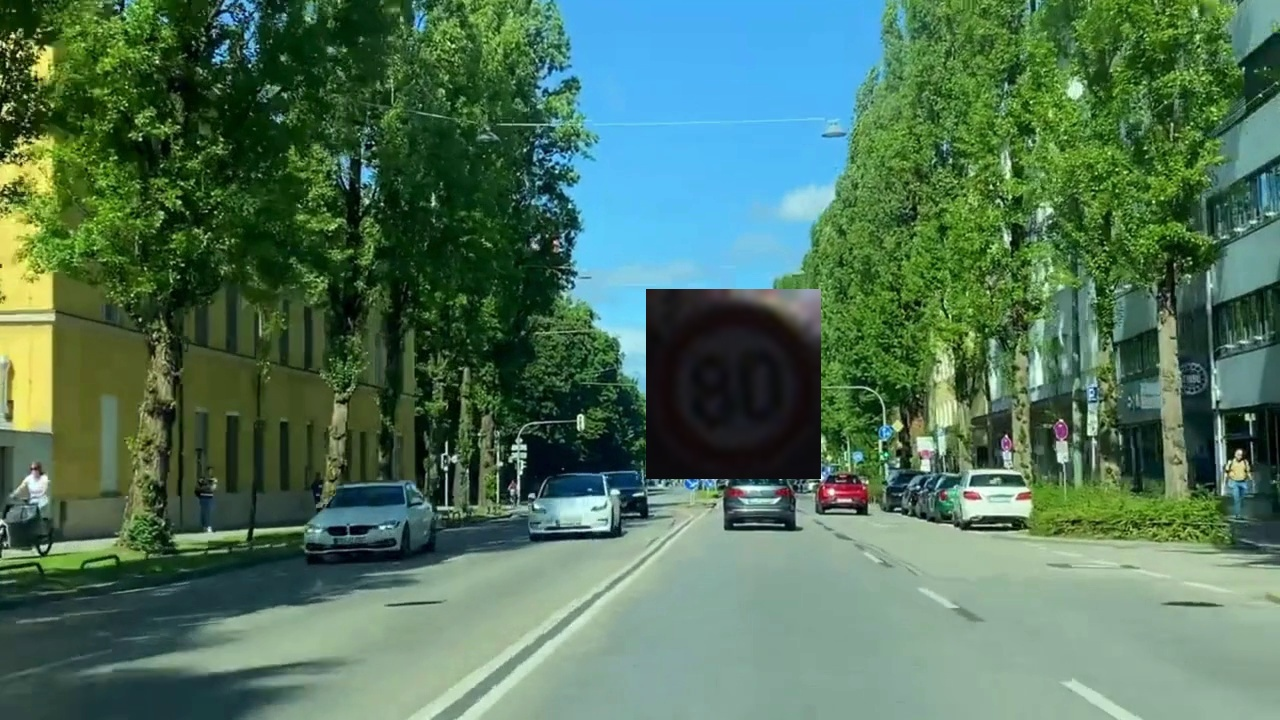Speed 80: (646, 289, 821, 479)
